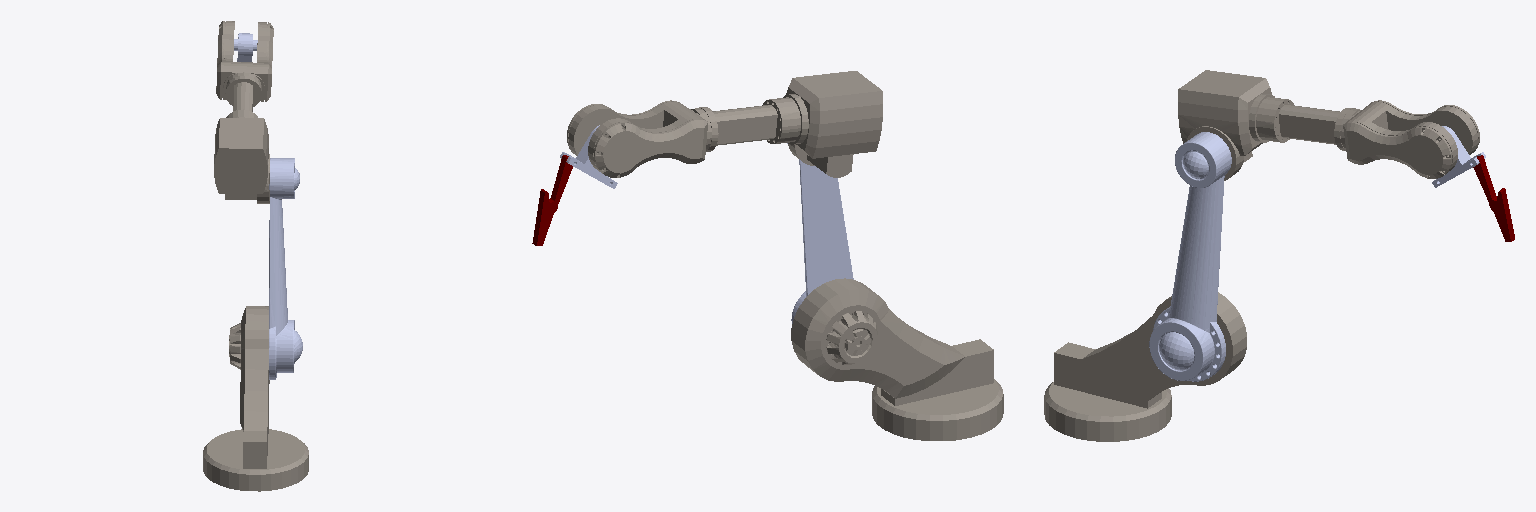
robot.urdf — Assem1urdf:
<?xml version="1.0" encoding="utf-8"?>
<!-- This URDF was automatically created by SolidWorks to URDF Exporter! Originally created by [author] ([email redacted]) 
     Commit Version: 1.6.0-4-g7f85cfe  Build Version: 1.6.7995.38578
     For more information, please see http://wiki.ros.org/sw_urdf_exporter -->
<robot
  name="Assem1urdf">
  <link
    name="base">
    <inertial>
      <origin
        xyz="0.226742516162307 0.246392950005474 0.270048837854102"
        rpy="0 0 0" />
      <mass
        value="2.28414900607297" />
      <inertia
        ixx="0.0207642464984385"
        ixy="-0.00431383295093611"
        ixz="0.00498544928650138"
        iyy="0.0160873927901403"
        iyz="0.0078904791645818"
        izz="0.0145242458550222" />
    </inertial>
    <visual>
      <origin
        xyz="0 0 0"
        rpy="0 0 0" />
      <geometry>
        <mesh
          filename="package://Assem1urdf/meshes/base.STL" />
      </geometry>
      <material
        name="">
        <color
          rgba="0.647058823529412 0.619607843137255 0.588235294117647 1" />
      </material>
    </visual>
    <collision>
      <origin
        xyz="0 0 0"
        rpy="0 0 0" />
      <geometry>
        <mesh
          filename="package://Assem1urdf/meshes/base.STL" />
      </geometry>
    </collision>
  </link>
  <link
    name="arm">
    <inertial>
      <origin
        xyz="-0.117297262997389 0.0166454356579845 -2.20275996552777E-06"
        rpy="0 0 0" />
      <mass
        value="0.801595578723009" />
      <inertia
        ixx="0.00045979820543184"
        ixy="-8.65057875643035E-05"
        ixz="1.25228199657154E-07"
        iyy="0.0126256787872376"
        iyz="-1.28719385423907E-08"
        izz="0.0124547980745786" />
    </inertial>
    <visual>
      <origin
        xyz="0 0 0"
        rpy="0 0 0" />
      <geometry>
        <mesh
          filename="package://Assem1urdf/meshes/arm.STL" />
      </geometry>
      <material
        name="">
        <color
          rgba="0.792156862745098 0.819607843137255 0.933333333333333 1" />
      </material>
    </visual>
    <collision>
      <origin
        xyz="0 0 0"
        rpy="0 0 0" />
      <geometry>
        <mesh
          filename="package://Assem1urdf/meshes/arm.STL" />
      </geometry>
    </collision>
  </link>
  <joint
    name="arm"
    type="fixed">
    <origin
      xyz="0.2943 -0.20183 0.32415"
      rpy="0 1.4642 -2.1138" />
    <parent
      link="base" />
    <child
      link="arm" />
    <axis
      xyz="0 0 0" />
    <limit
      lower="-1.57"
      upper="1.57"
      effort="10"
      velocity="100" />
  </joint>
  <link
    name="elbow">
    <inertial>
      <origin
        xyz="0.0461665493874402 0.0384330708710939 0.03442531586515"
        rpy="0 0 0" />
      <mass
        value="10.0771572550788" />
      <inertia
        ixx="0.0517031148725114"
        ixy="-0.000944025635907299"
        ixz="-0.000636032270997993"
        iyy="0.0485783980224759"
        iyz="-0.00227813254776931"
        izz="0.0138484582615806" />
    </inertial>
    <visual>
      <origin
        xyz="0 0 0"
        rpy="0 0 0" />
      <geometry>
        <mesh
          filename="package://Assem1urdf/meshes/elbow.STL" />
      </geometry>
      <material
        name="">
        <color
          rgba="0.647058823529412 0.619607843137255 0.588235294117647 1" />
      </material>
    </visual>
    <collision>
      <origin
        xyz="0 0 0"
        rpy="0 0 0" />
      <geometry>
        <mesh
          filename="package://Assem1urdf/meshes/elbow.STL" />
      </geometry>
    </collision>
  </link>
  <joint
    name="elbow"
    type="revolute">
    <origin
      xyz="-0.3 0 0"
      rpy="2.9215 0 -1.5708" />
    <parent
      link="arm" />
    <child
      link="elbow" />
    <axis
      xyz="1 0 0" />
    <limit
      lower="0"
      upper="0"
      effort="0"
      velocity="0" />
  </joint>
  <link
    name="hand">
    <inertial>
      <origin
        xyz="2.540124444117E-09 6.30749752428272E-09 -0.04240439081037"
        rpy="0 0 0" />
      <mass
        value="0.589705735830938" />
      <inertia
        ixx="0.00202301430719847"
        ixy="3.67639996001539E-11"
        ixz="8.38881551571725E-11"
        iyy="0.00240194500297304"
        iyz="2.18585193443254E-10"
        izz="0.000729900566469361" />
    </inertial>
    <visual>
      <origin
        xyz="0 0 0"
        rpy="0 0 0" />
      <geometry>
        <mesh
          filename="package://Assem1urdf/meshes/hand.STL" />
      </geometry>
      <material
        name="">
        <color
          rgba="0.647058823529412 0.619607843137255 0.588235294117647 1" />
      </material>
    </visual>
    <collision>
      <origin
        xyz="0 0 0"
        rpy="0 0 0" />
      <geometry>
        <mesh
          filename="package://Assem1urdf/meshes/hand.STL" />
      </geometry>
    </collision>
  </link>
  <joint
    name="hand"
    type="continuous">
    <origin
      xyz="0.048 0.045 0.25708"
      rpy="3.1416 0 -3.0994" />
    <parent
      link="elbow" />
    <child
      link="hand" />
    <axis
      xyz="0 0 1" />
  </joint>
  <link
    name="joint">
    <inertial>
      <origin
        xyz="0.0162559261217818 1.11022302462516E-16 2.22044604925031E-16"
        rpy="0 0 0" />
      <mass
        value="0.0782775952404967" />
      <inertia
        ixx="2.25342036343016E-05"
        ixy="-2.5410988417629E-20"
        ixz="2.20228566286118E-20"
        iyy="3.84769820900075E-05"
        iyz="1.18584612615602E-20"
        izz="4.51210465186549E-05" />
    </inertial>
    <visual>
      <origin
        xyz="0 0 0"
        rpy="0 0 0" />
      <geometry>
        <mesh
          filename="package://Assem1urdf/meshes/joint.STL" />
      </geometry>
      <material
        name="">
        <color
          rgba="0.792156862745098 0.819607843137255 0.933333333333333 1" />
      </material>
    </visual>
    <collision>
      <origin
        xyz="0 0 0"
        rpy="0 0 0" />
      <geometry>
        <mesh
          filename="package://Assem1urdf/meshes/joint.STL" />
      </geometry>
    </collision>
  </link>
  <joint
    name="joint"
    type="continuous">
    <origin
      xyz="0 0 -0.10192"
      rpy="1.5708 0.54061 -1.5708" />
    <parent
      link="hand" />
    <child
      link="joint" />
    <axis
      xyz="0 0 1" />
  </joint>
  <link
    name="claw1">
    <inertial>
      <origin
        xyz="0.0206522124406976 5.55111512312578E-17 0.0596136661385636"
        rpy="0 0 0" />
      <mass
        value="0.0230303728152378" />
      <inertia
        ixx="2.68926576922532E-05"
        ixy="2.37169225231204E-20"
        ixz="-7.06523506550488E-06"
        iyy="2.94324985028668E-05"
        iyz="9.25383494875323E-20"
        izz="3.09256975817937E-06" />
    </inertial>
    <visual>
      <origin
        xyz="0 0 0"
        rpy="0 0 0" />
      <geometry>
        <mesh
          filename="package://Assem1urdf/meshes/claw1.STL" />
      </geometry>
      <material
        name="">
        <color
          rgba="0.501960784313725 0 0 1" />
      </material>
    </visual>
    <collision>
      <origin
        xyz="0 0 0"
        rpy="0 0 0" />
      <geometry>
        <mesh
          filename="package://Assem1urdf/meshes/claw1.STL" />
      </geometry>
    </collision>
  </link>
  <joint
    name="claw1"
    type="continuous">
    <origin
      xyz="0.047 -0.035 0"
      rpy="-1.5708 0 -1.1062" />
    <parent
      link="joint" />
    <child
      link="claw1" />
    <axis
      xyz="0 1 0" />
  </joint>
</robot>

--- What the picture shows (computed from the rendered views, not written in the file) ---
The picture shows the robot from 3 angles, left to right: view 1: azimuth 30°, elevation 25°; view 2: azimuth 150°, elevation 25°; view 3: azimuth 270°, elevation 25°; orthographic projection.
Robot: Assem1urdf — 6 links, 5 joints (1 revolute, 3 continuous, 1 fixed); root link base; default pose: every joint at zero.
Links seen in each view (by area): view 1: base, elbow, arm, hand; view 2: base, elbow, hand, arm, claw1, joint; view 3: base, arm, elbow, hand, claw1, joint.
Link boxes in pixels (bbox=[...]): base: bbox=[203, 306, 308, 491]; elbow: bbox=[214, 72, 269, 203]; arm: bbox=[269, 158, 302, 379]; hand: bbox=[216, 21, 273, 101]; base: bbox=[791, 278, 1003, 440]; elbow: bbox=[691, 71, 882, 177]; hand: bbox=[567, 100, 707, 177]; arm: bbox=[787, 143, 853, 323]; claw1: bbox=[532, 155, 572, 245]; joint: bbox=[560, 125, 617, 188]; base: bbox=[1044, 292, 1246, 441]; arm: bbox=[1149, 132, 1231, 381]; elbow: bbox=[1178, 70, 1359, 180]; hand: bbox=[1343, 100, 1479, 178]; claw1: bbox=[1473, 155, 1514, 241]; joint: bbox=[1432, 126, 1485, 187].
Bounding box of the posed robot: 0.4011 × 0.6662 × 0.5853 m (x, y, z).
6 mesh visuals loaded from 6 distinct referenced files (6 binary STL).